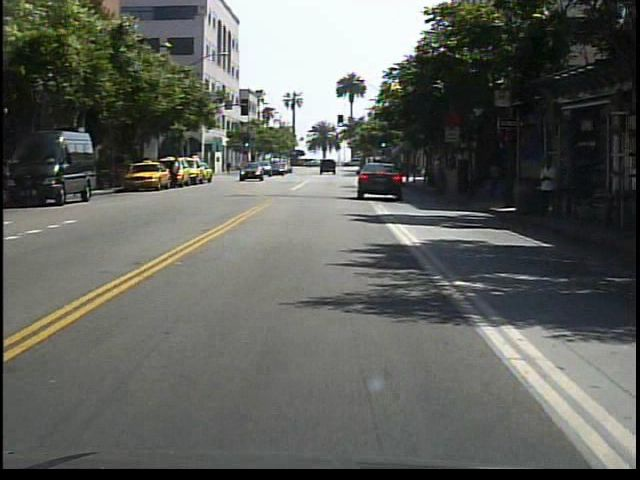person: (534, 150, 567, 225), (169, 155, 185, 192)
